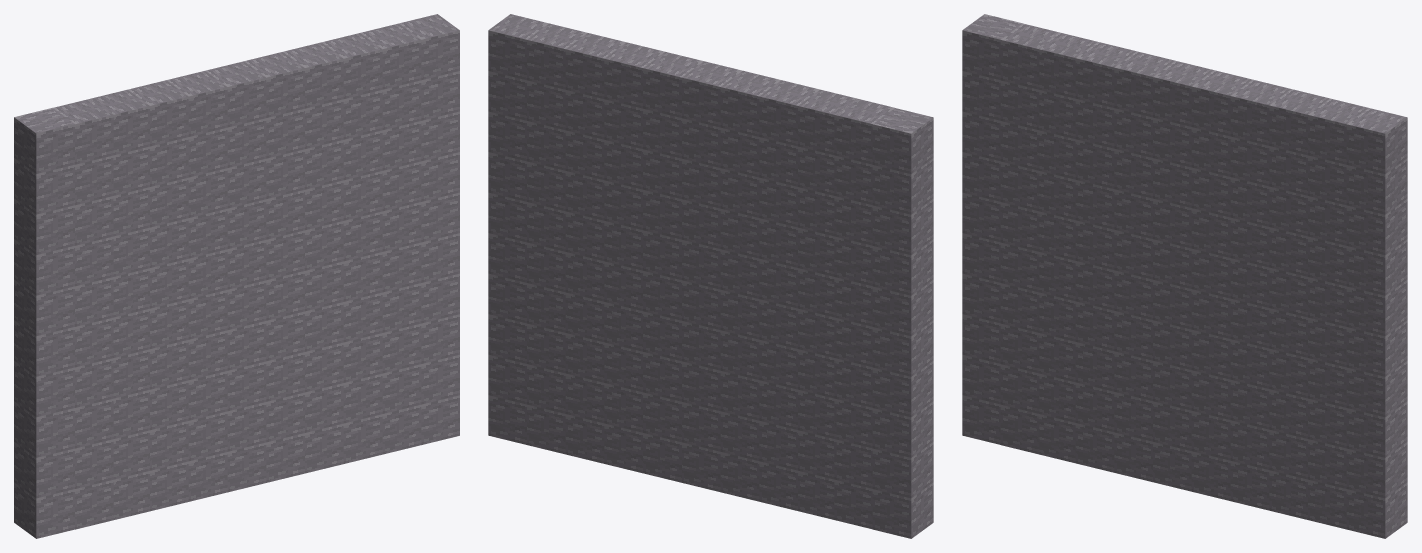
File: cave_wall.fbx
3 views of the same model, side by side, from view 1: azimuth 30°, elevation 25°; view 2: azimuth 150°, elevation 25°; view 3: azimuth 330°, elevation 25° (orthographic).
Parts seen in each view (by area): view 1: wall; view 2: wall; view 3: wall.
Boxes of the visible parts, bbox=[...] form: wall: bbox=[14, 14, 459, 538]; wall: bbox=[488, 14, 933, 538]; wall: bbox=[962, 14, 1407, 538].
Bounding box in the file's own units: 1093 × 1000 × 101.
1 material, 1 textured.
